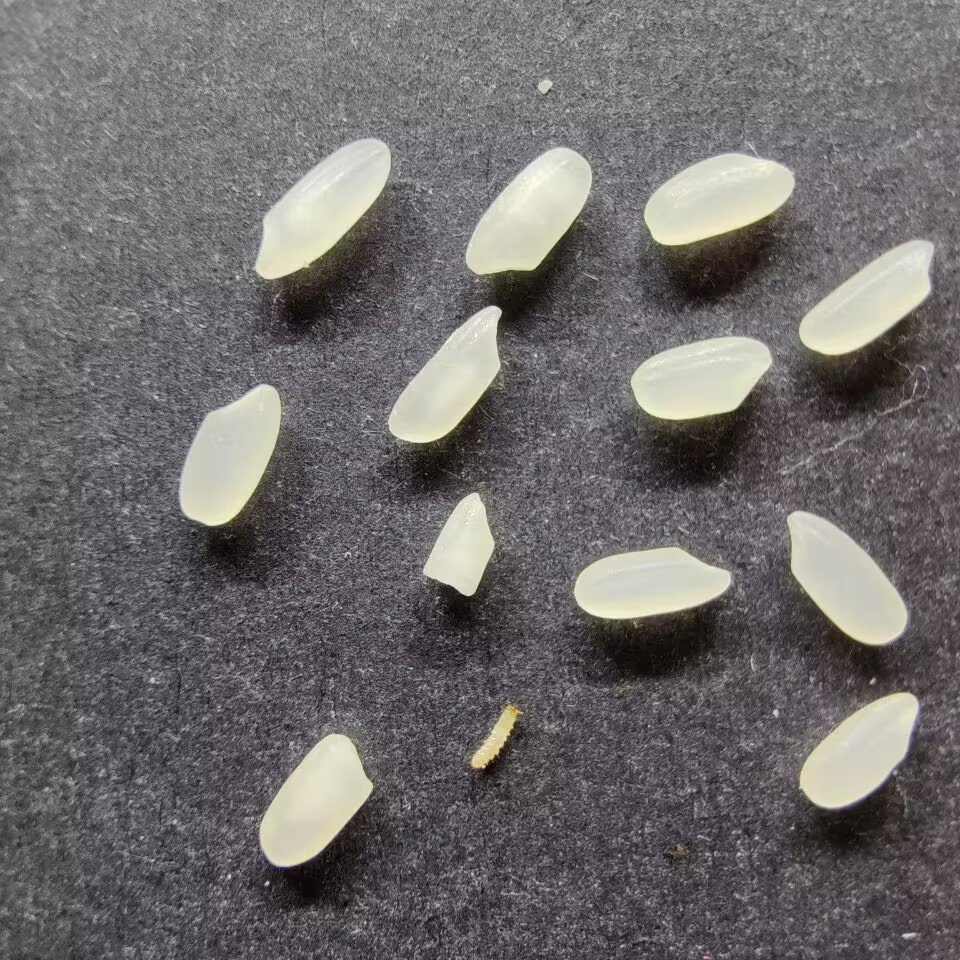broken: (421, 490, 496, 597)
others: (468, 697, 525, 772)
rice: (253, 137, 393, 280), (784, 509, 910, 647), (465, 145, 594, 277), (387, 303, 504, 444), (797, 237, 936, 355), (257, 732, 375, 868), (177, 382, 281, 526), (642, 151, 796, 246), (796, 691, 919, 809), (572, 544, 732, 620), (629, 335, 772, 420)
